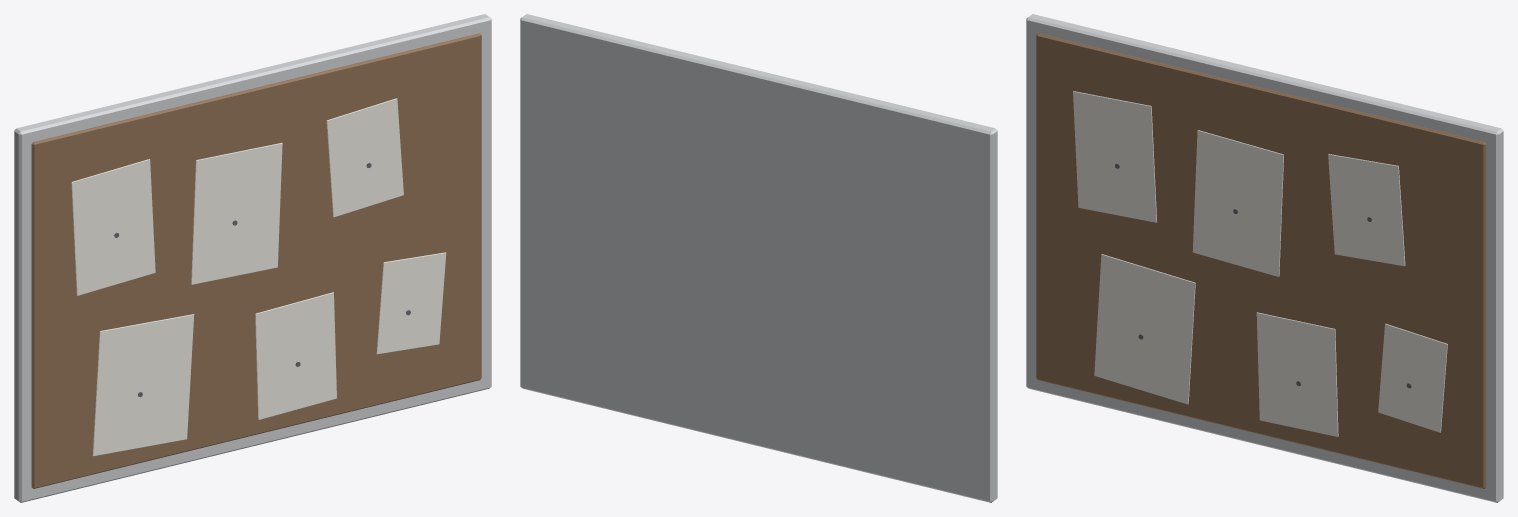
File: police-station-and-detective-office-notice-board-70152d1d__29967.glb
The picture shows the model from 3 angles, left to right: view 1: azimuth 30°, elevation 25°; view 2: azimuth 150°, elevation 25°; view 3: azimuth 330°, elevation 25°; orthographic projection.
Visible parts, largest first — view 1: notice-board; view 2: notice-board; view 3: notice-board.
Boxes of the visible parts, box(x1,y1,x2,y2) form: notice-board: box(14, 14, 491, 502); notice-board: box(520, 14, 997, 502); notice-board: box(1026, 14, 1503, 502).
Bounding box in the file's own units: 1.2 × 0.9 × 0.041.
